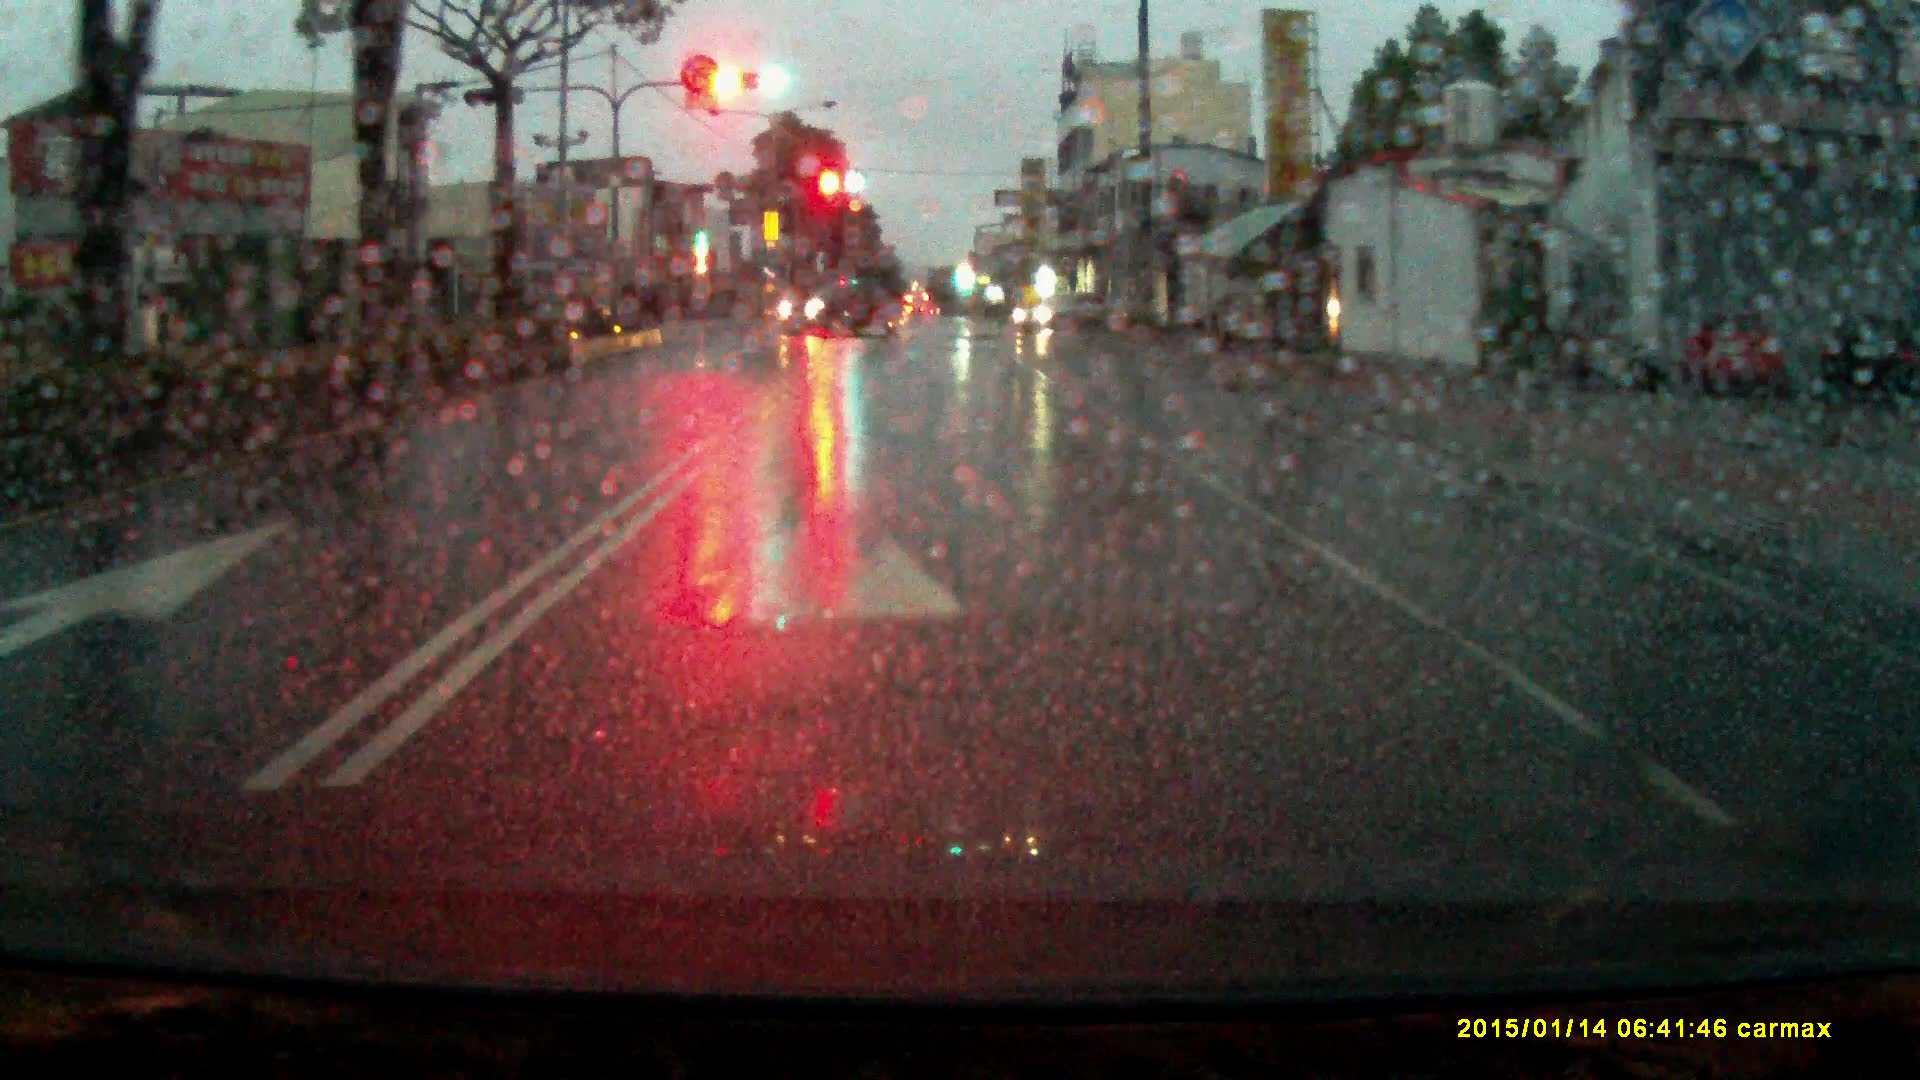vehicle: (775, 276, 914, 342), (1015, 291, 1126, 342)
